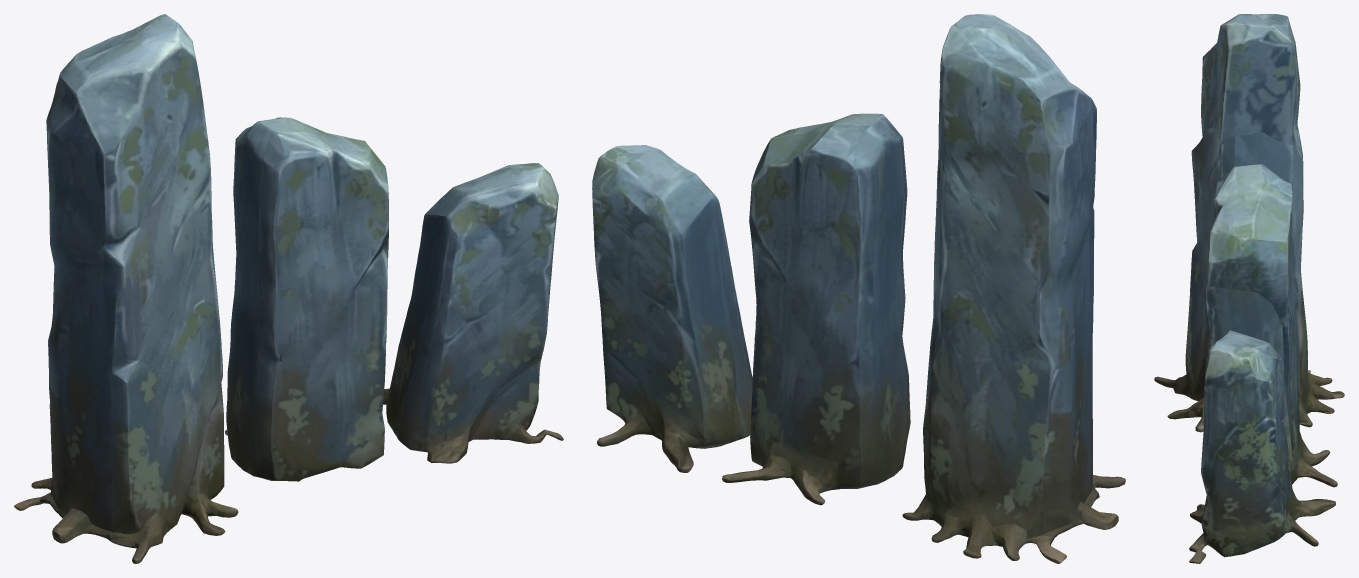
Rendered from standing_stones.glb.
3 renders of one model, left to right at view 1: azimuth 30°, elevation 25°; view 2: azimuth 150°, elevation 25°; view 3: azimuth 270°, elevation 25°, orthographic. The views are drawn at different scales.
Visible parts, largest first — view 1: geometry_0; view 2: geometry_0; view 3: geometry_0.
Part boxes in pixels (x1,y1,x2,y2): geometry_0: (14, 14, 563, 563); geometry_0: (592, 14, 1125, 563); geometry_0: (1154, 14, 1344, 563).
Bounding box in the file's own units: 3 × 2.78 × 1.19.
1 material, 1 textured.
